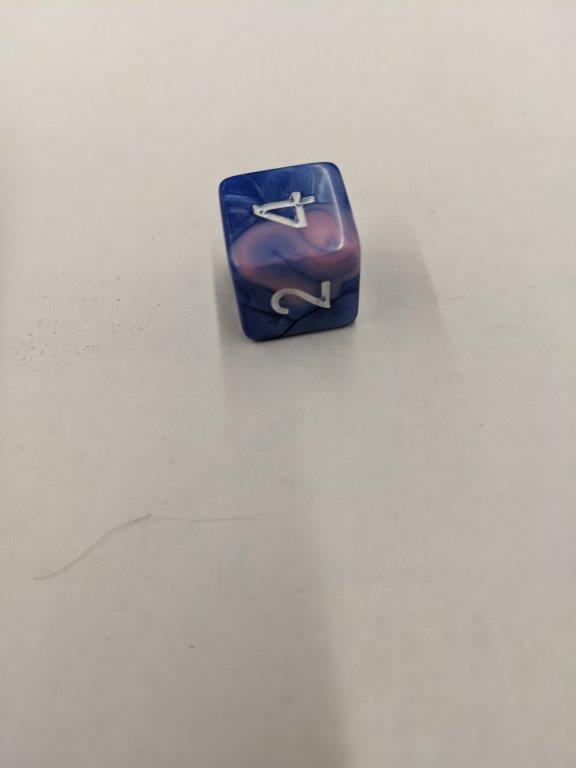d6-4: (217, 161, 362, 346)
